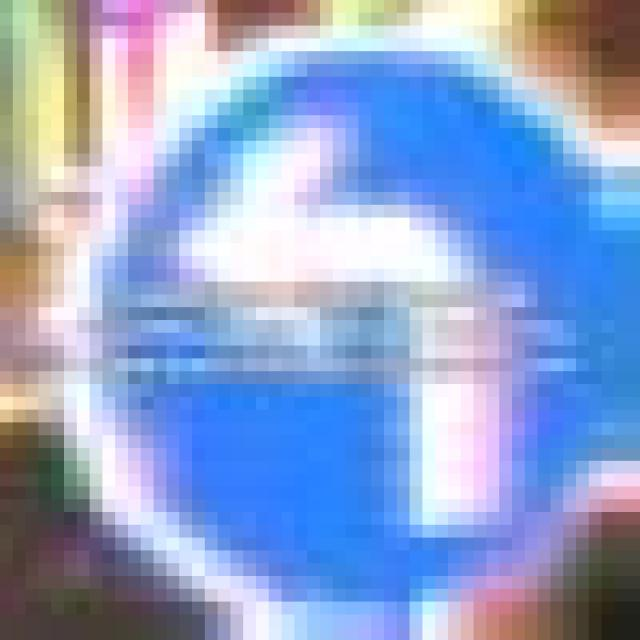COMPULSARY_TURN_LEFT: (0, 26, 627, 614)
